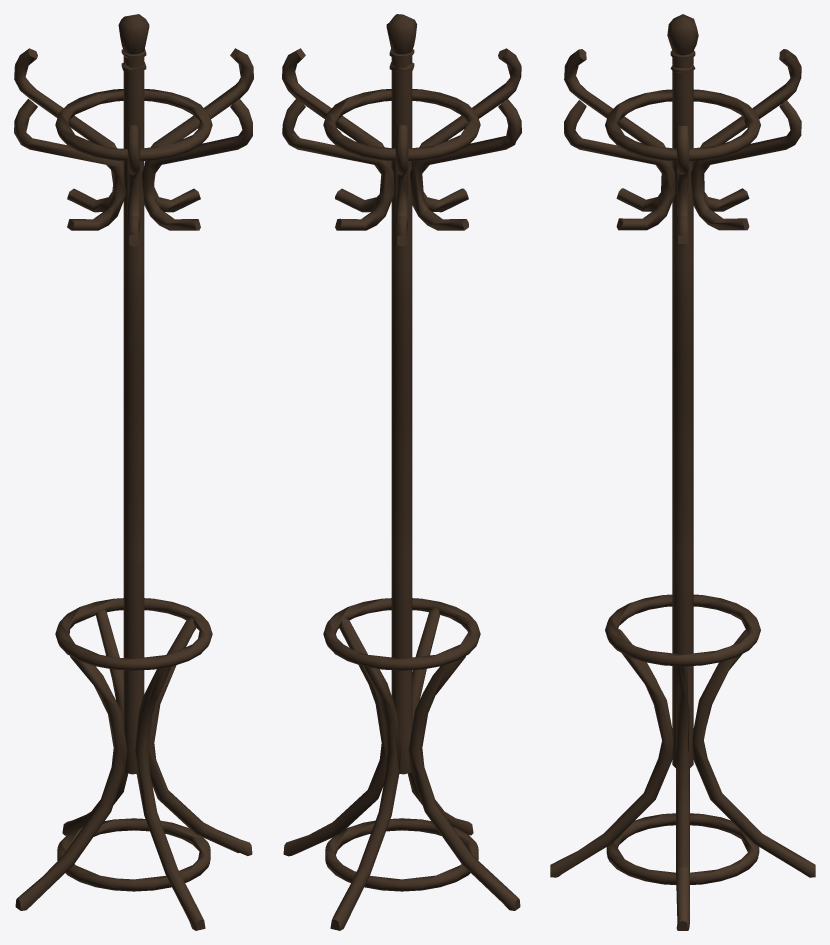
File: coat_stand.glb
3 views of the same model, side by side, from view 1: azimuth 30°, elevation 25°; view 2: azimuth 150°, elevation 25°; view 3: azimuth 270°, elevation 25° (orthographic).
Parts seen in each view (by area): view 1: coat_stand; view 2: coat_stand; view 3: coat_stand.
Part boxes in pixels (<box>): coat_stand: <box>14,14,253,930</box>; coat_stand: <box>282,14,521,930</box>; coat_stand: <box>550,14,815,930</box>.
Size of the model in its own units: 0.5261 by 1.85 by 0.5178.
1 material, 1 textured.
